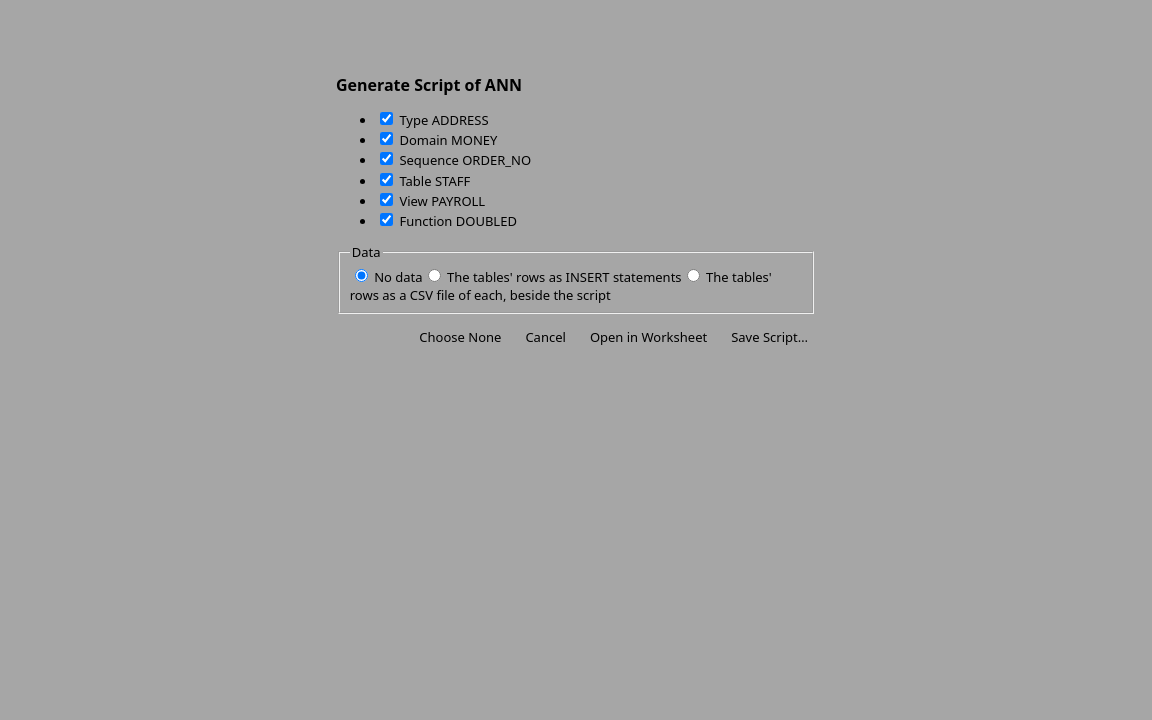
a schema's script generated › saves the script with its tables' rows, as INSERTs or CSV files beside it [DESIGN] D65
The image size is (1152, 720).
Click the radio button labelled "The tables' rows as a CSV file of each, beside the script".
click(693, 275)  # box [687,269,700,282]
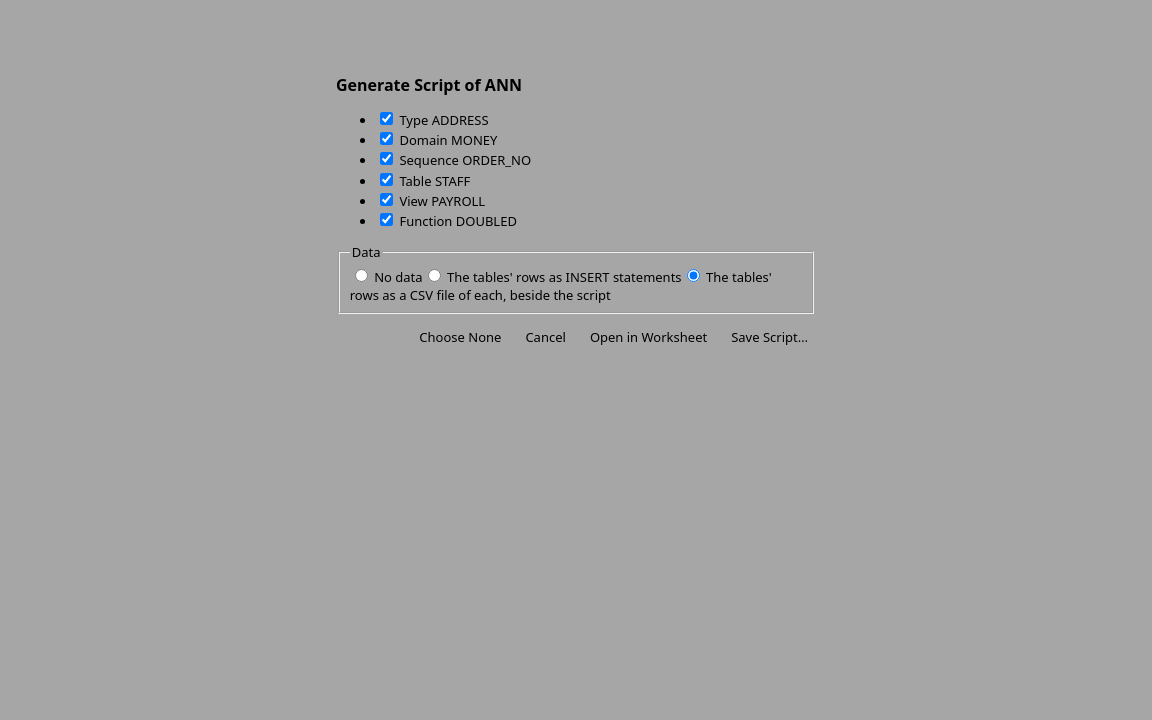
Check: the button "Open in Worksheet" is disabled, box [582,326,715,348]
Click the button "Save Script…".
click(770, 337)  # box [723,326,816,348]
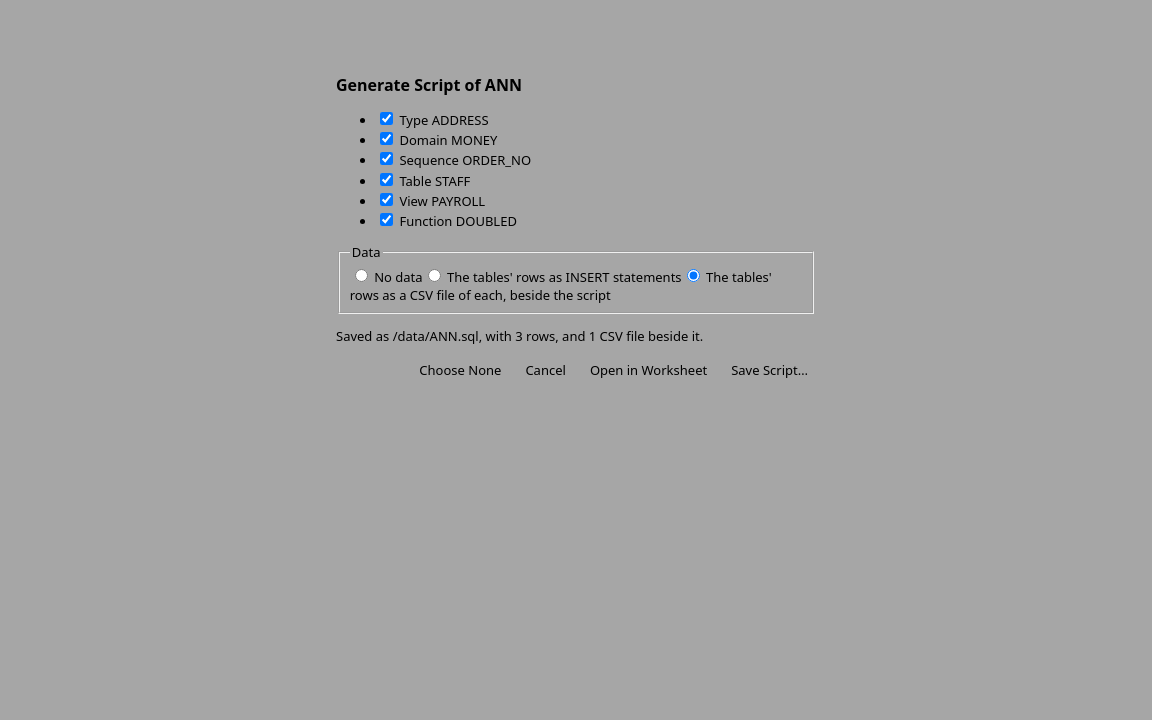
Check: the text "Saved as /data/ANN.sql, with 3 rows, and 1 CSV file beside it." is shown, box [336,327,703,345]
Click the radio button labelled "The tables' rows as INSERT statements".
click(434, 275)  # box [428,269,440,282]
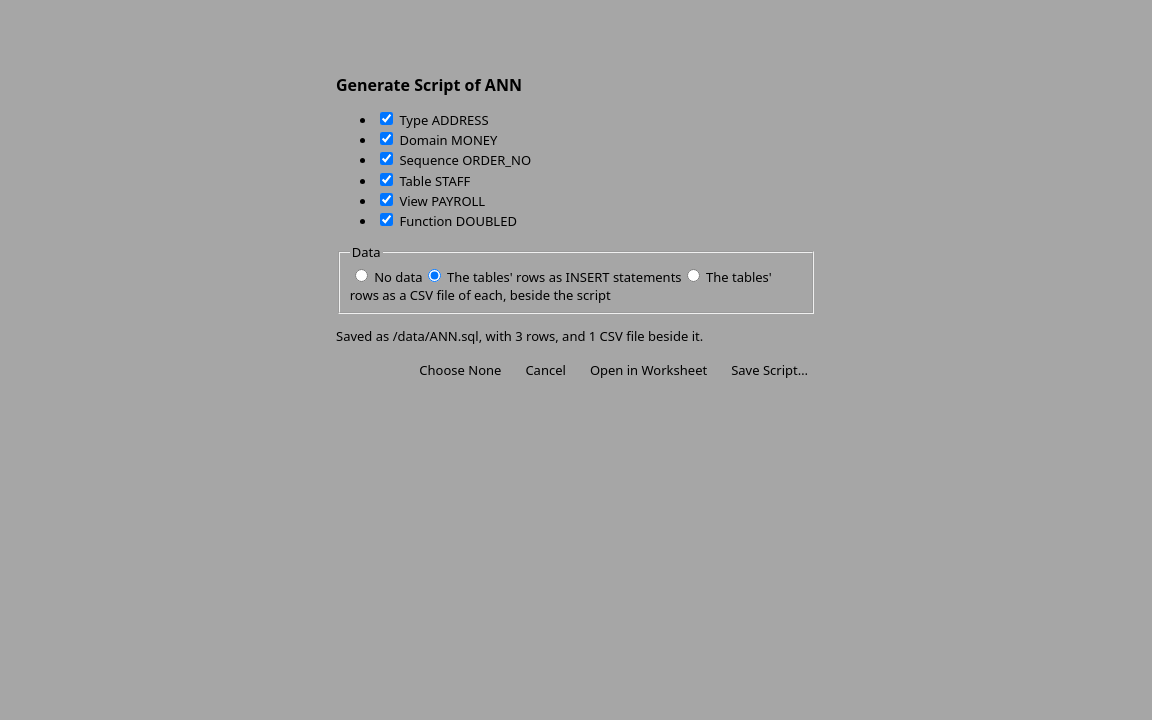
Click the button "Save Script…".
click(770, 370)  # box [723,358,816,381]
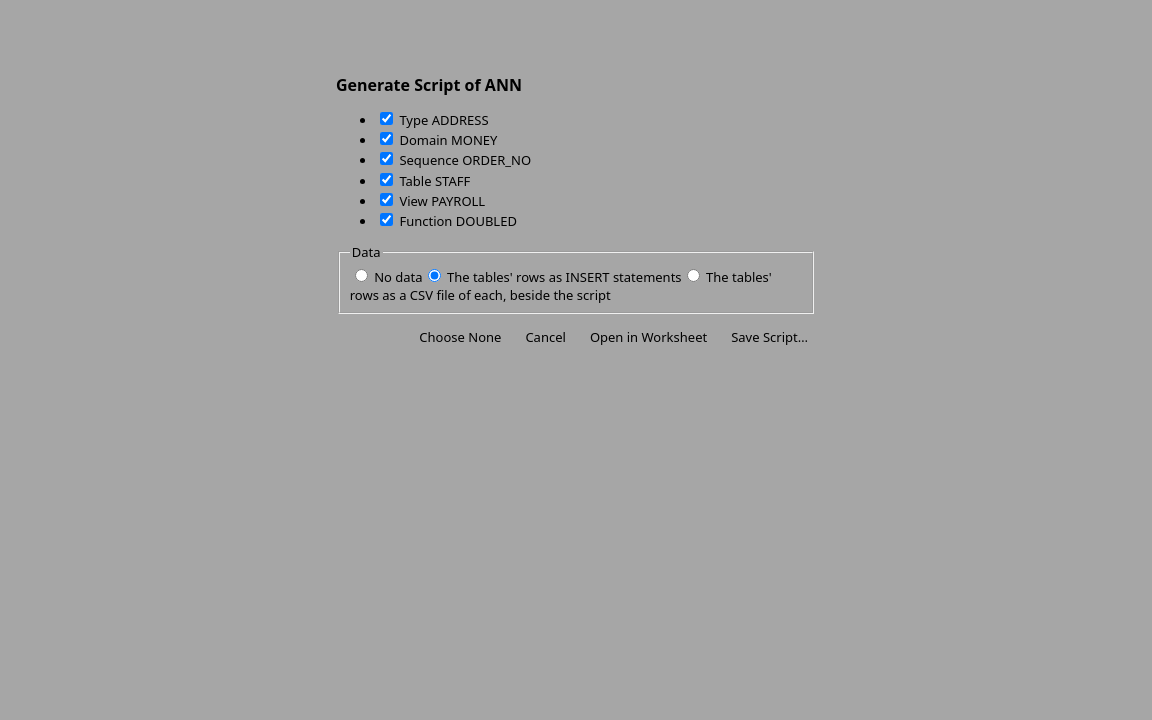
Check: the text "Saved as" is gone
